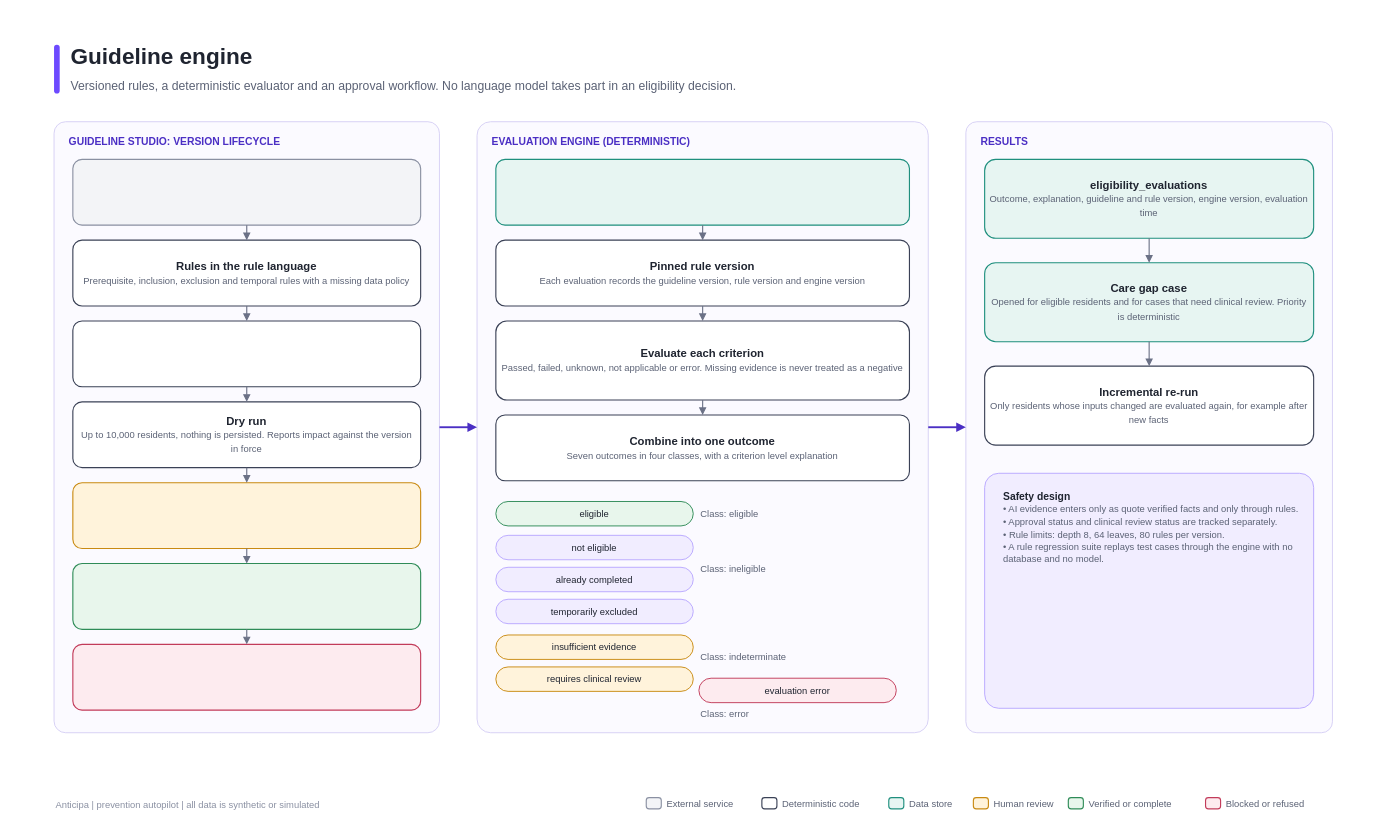
Image size: 1386x840. Some labels were removed from this diagram. Here are the shapes that lost their labels. From the top down, the centre of each, then its label:
(246,191): Cited source documents Programme guidelines read and matched to excerpts
(702,191): Resident inputs Clinical records, accepted evidence facts and family edges
(246,353): Draft version Editable. Never used for real evaluations
(246,515): In review A clinical reviewer examines rules and dry run impact
(246,595): Approved Needs the guidelines.approve permission. Audited
(246,676): Retired Retiring a version and re-running evaluation is the rollback
